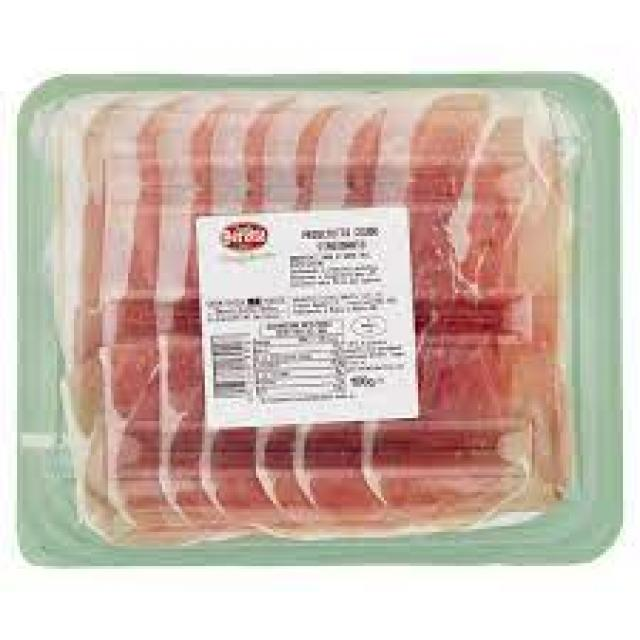Ham: (14, 65, 624, 565)
